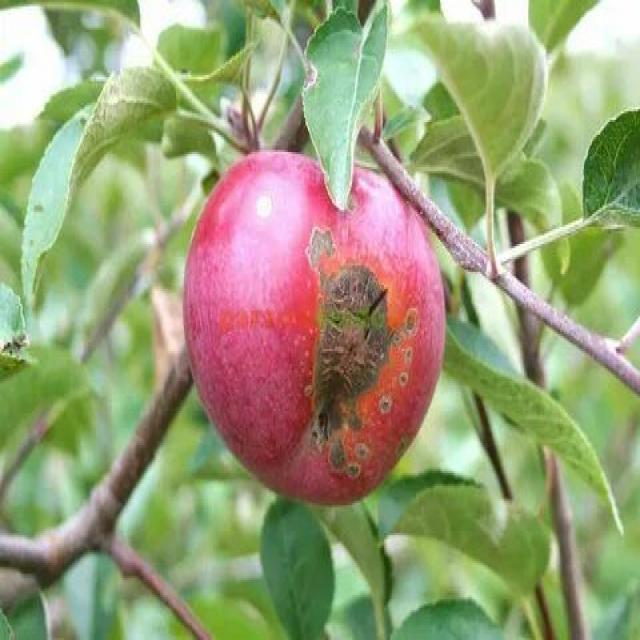Rotten: (200, 137, 458, 510)
